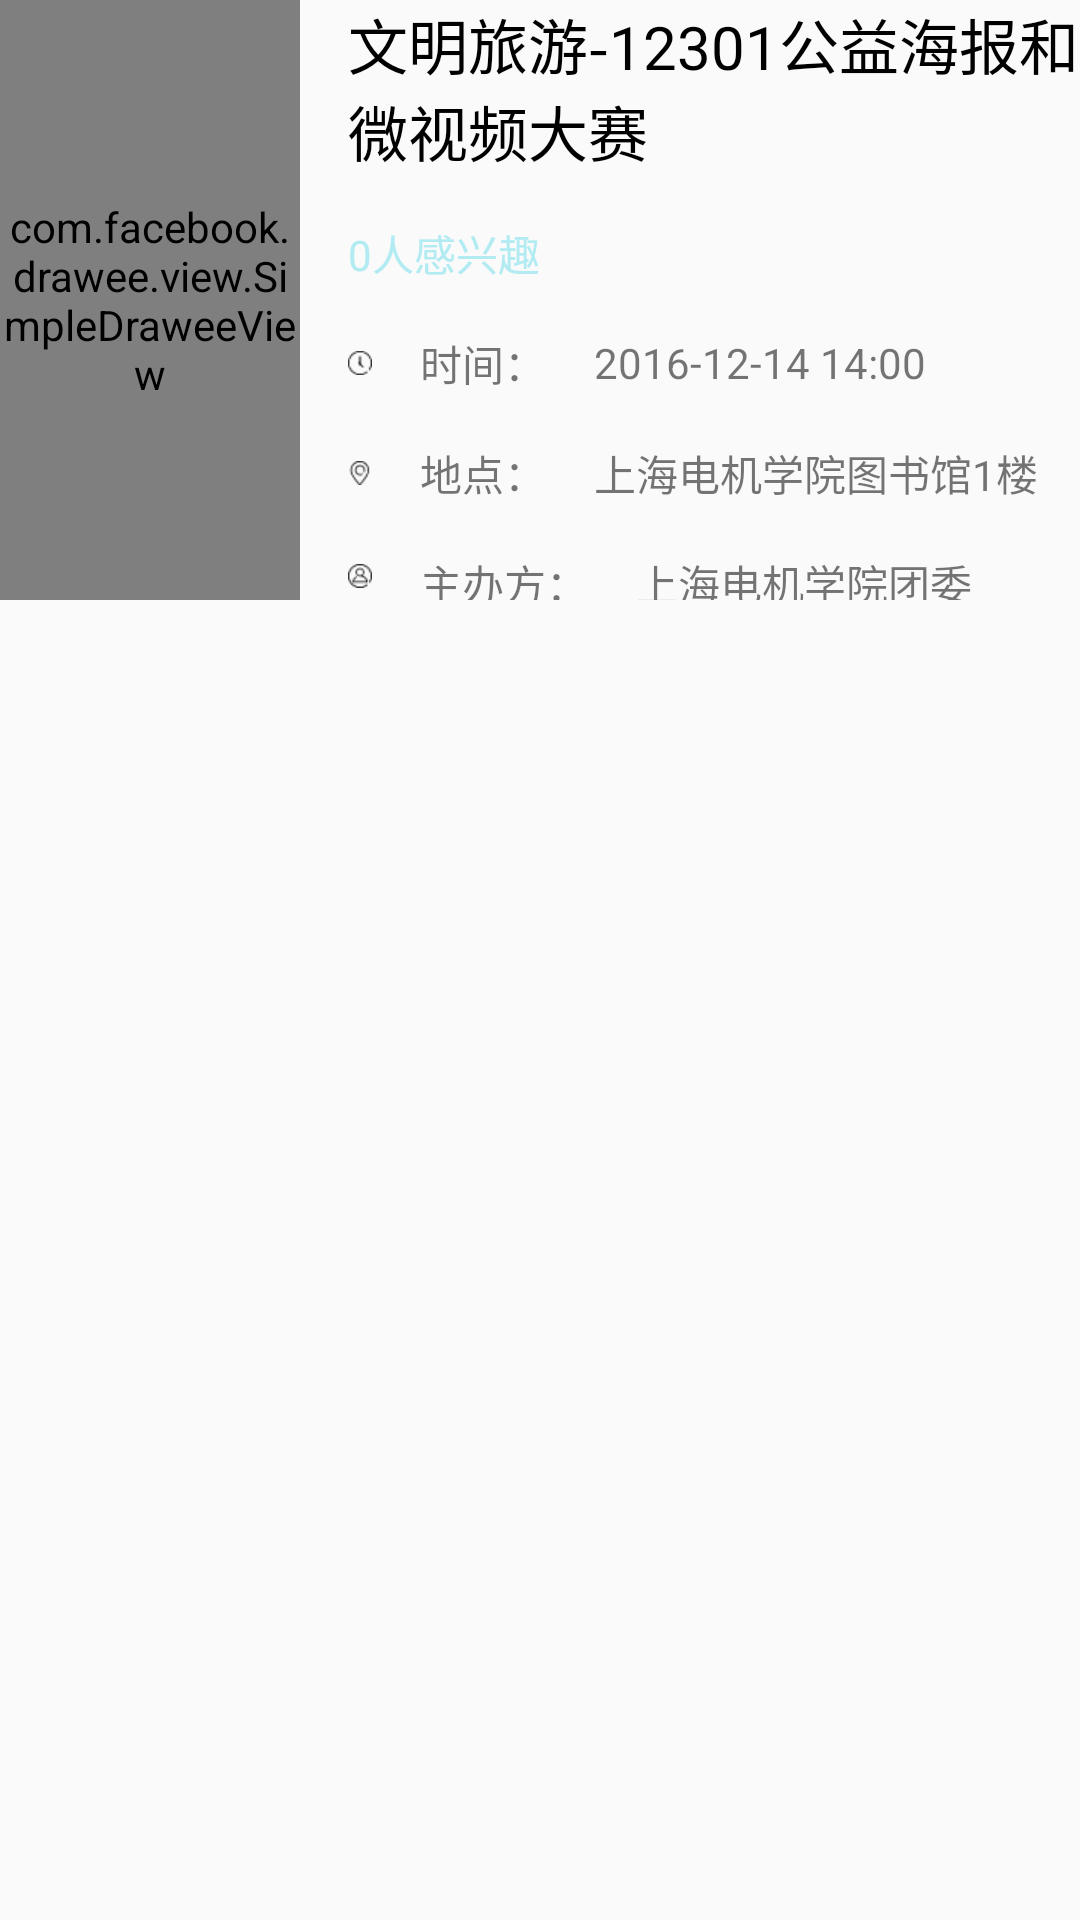

Point at icon controls on the screen. Image size 1080*1920, points as [x,y].
clock: [360,363]
